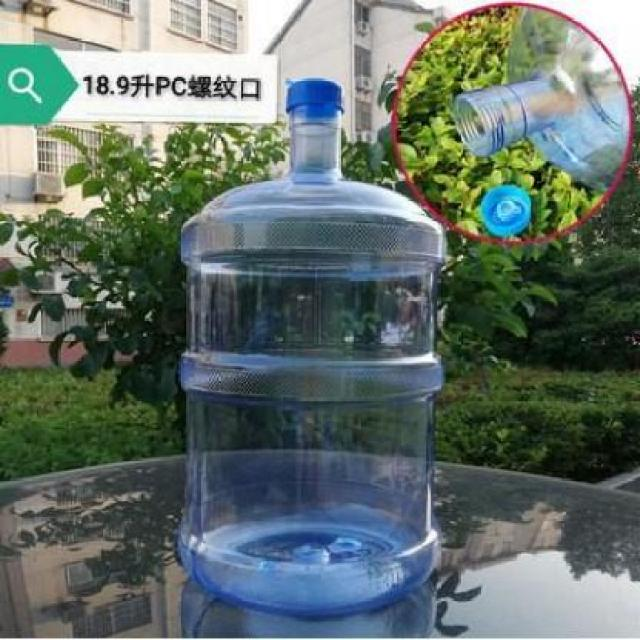coolerbottle: (177, 74, 445, 623)
